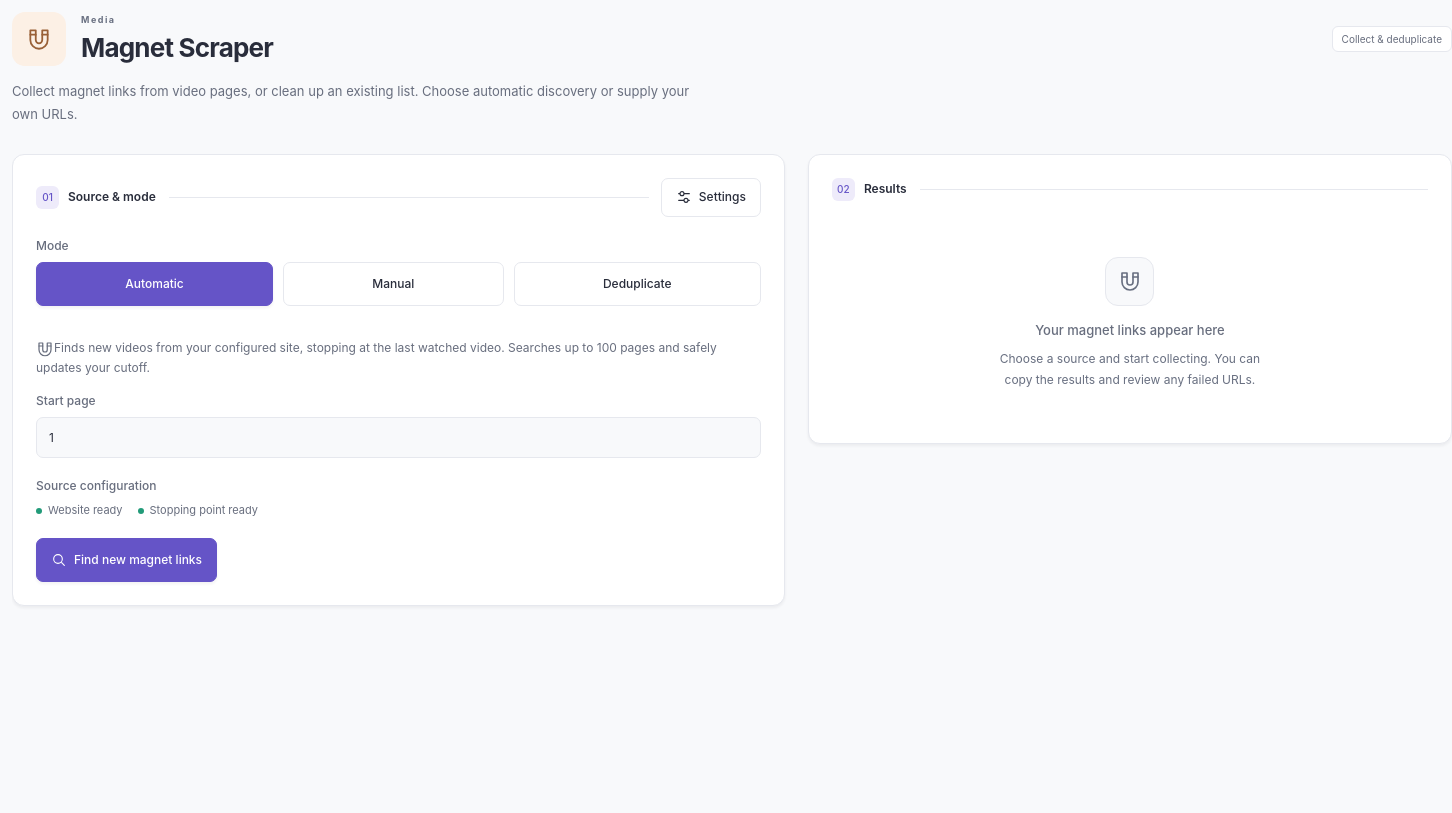
Test: prefills saved settings and discards cancelled changes
Check: the button "Find new magnet links" is enabled, box 36,538 -> 217,582
Click the button "Settings" at x=711, y=197, box 661,178 -> 761,217
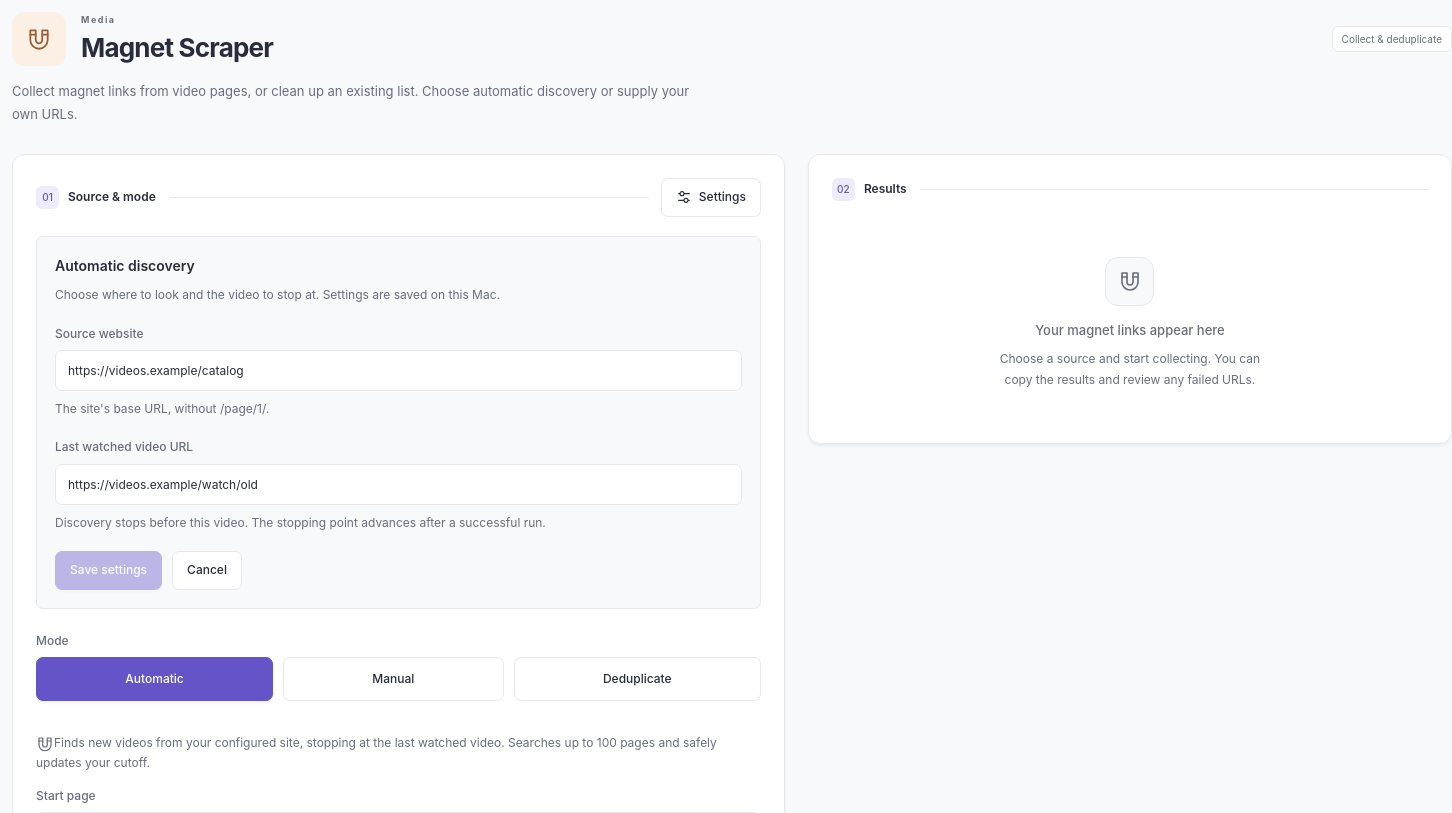
Check: the field labelled "Source website" holds "https://videos.example/catalog"
Check: the field labelled "Last watched video URL" holds "https://videos.example/watch/old", box 55,464 -> 742,505
Replace the text in the field labelled "Source website" with "https://draft.example/" at x=398, y=370, box 55,350 -> 742,391
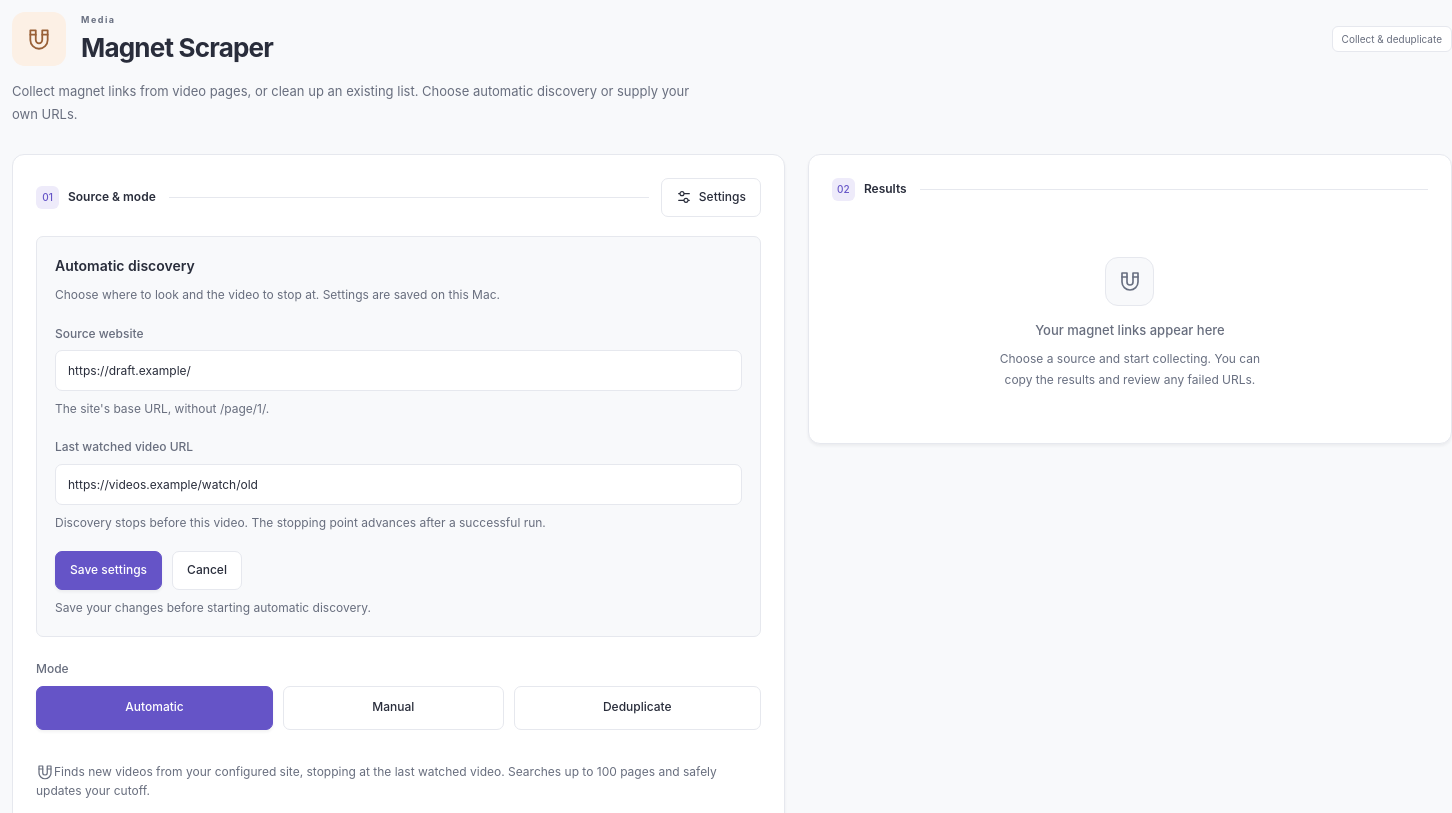
Replace the text in the field labelled "Last watched video URL" with "https://draft.example/watch/1" at x=398, y=484, box 55,464 -> 742,505
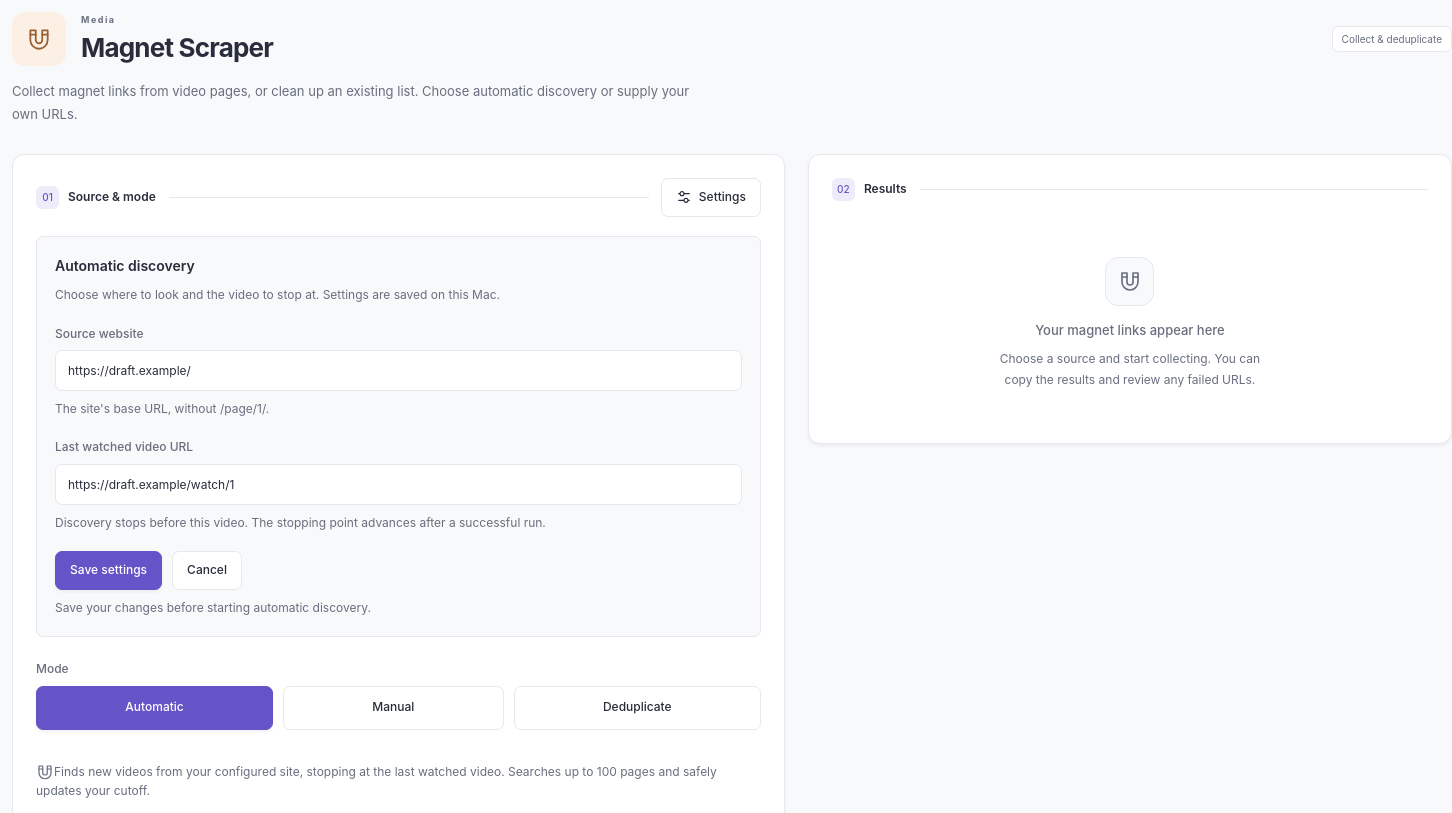
Click the button "Cancel" at x=207, y=571, box 172,551 -> 242,590
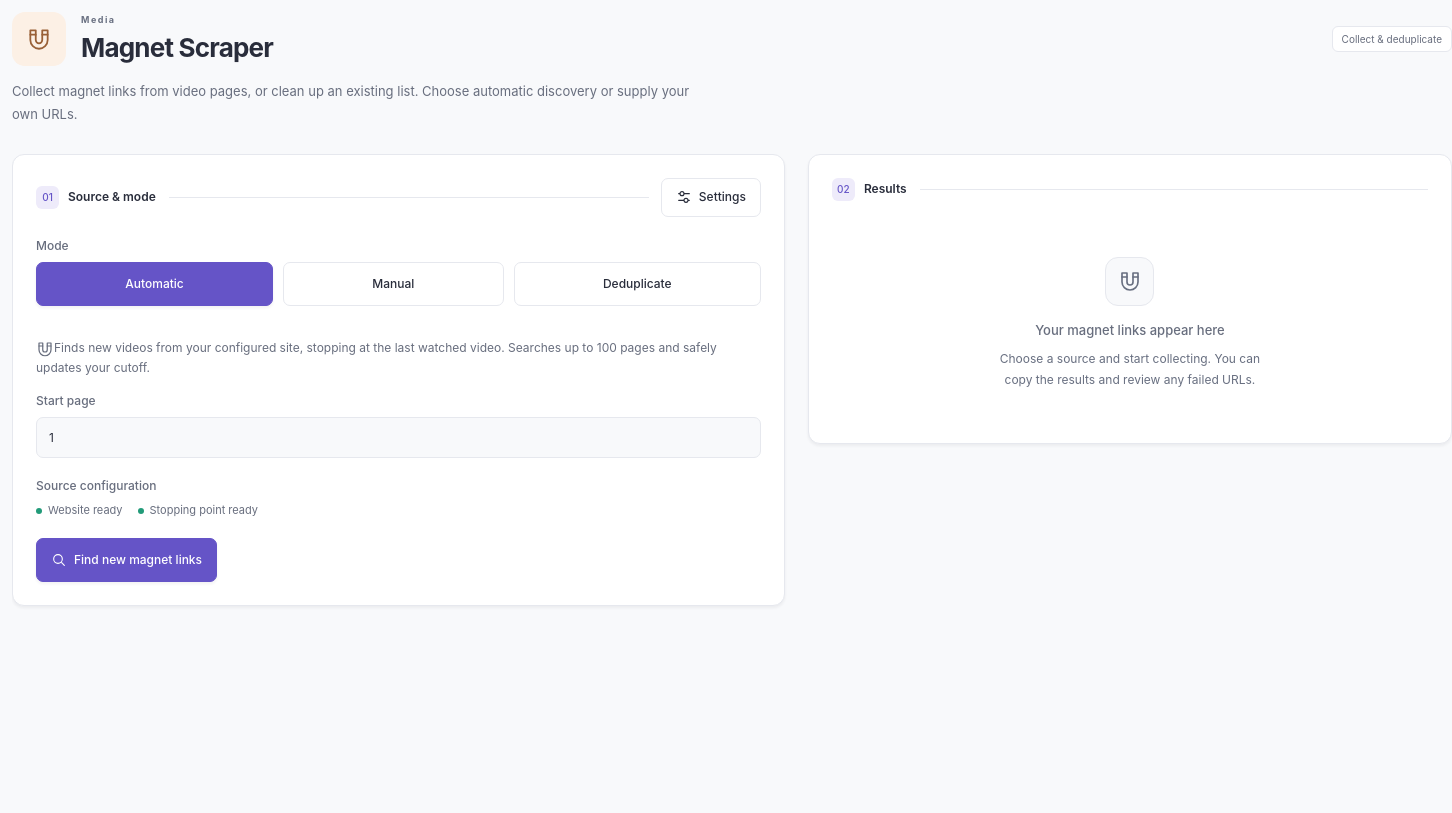
Click the button "Settings" at x=711, y=197, box 661,178 -> 761,217
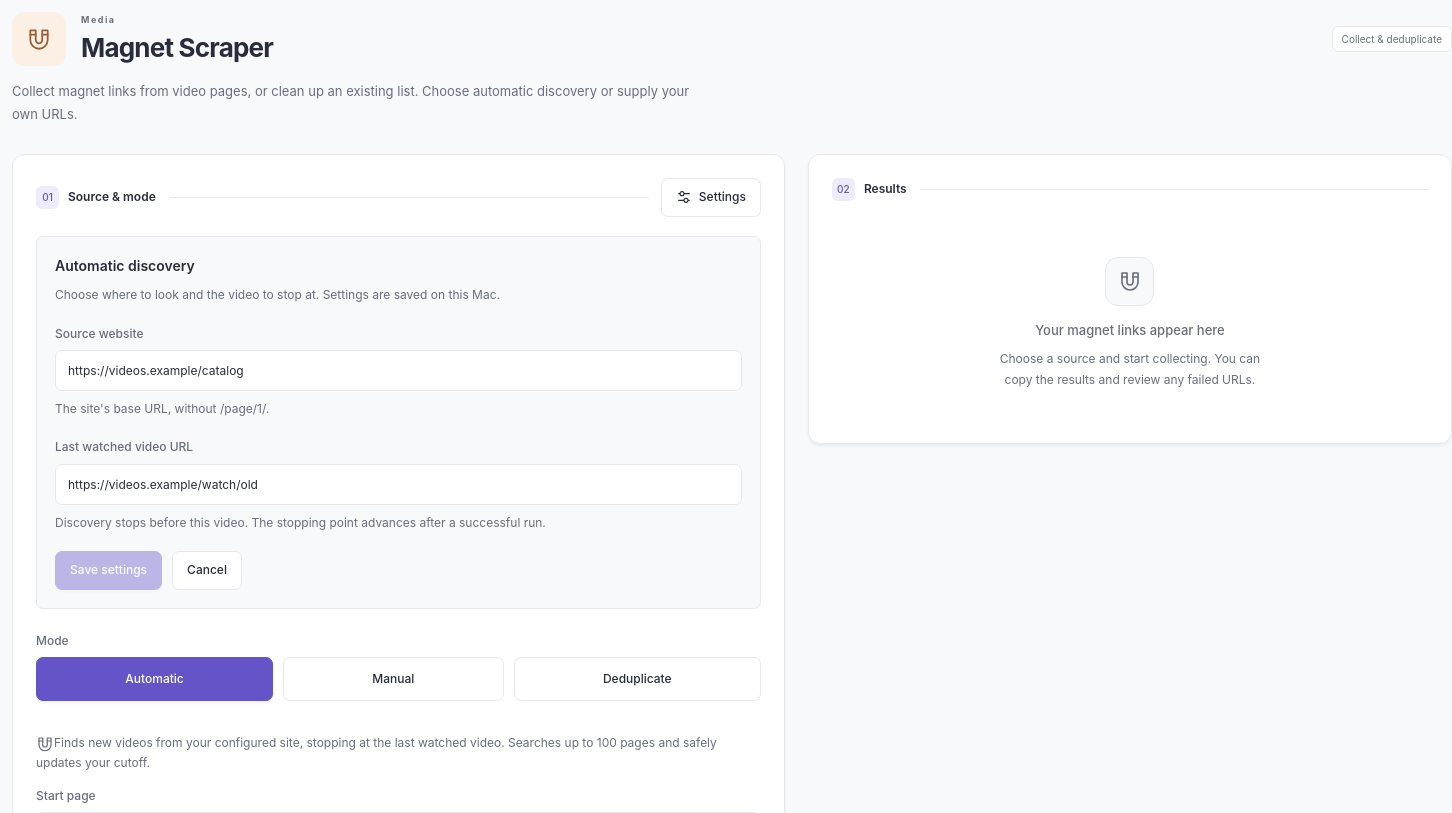
Check: the field labelled "Source website" holds "https://videos.example/catalog", box 55,350 -> 742,391
Check: the field labelled "Last watched video URL" holds "https://videos.example/watch/old", box 55,464 -> 742,505
